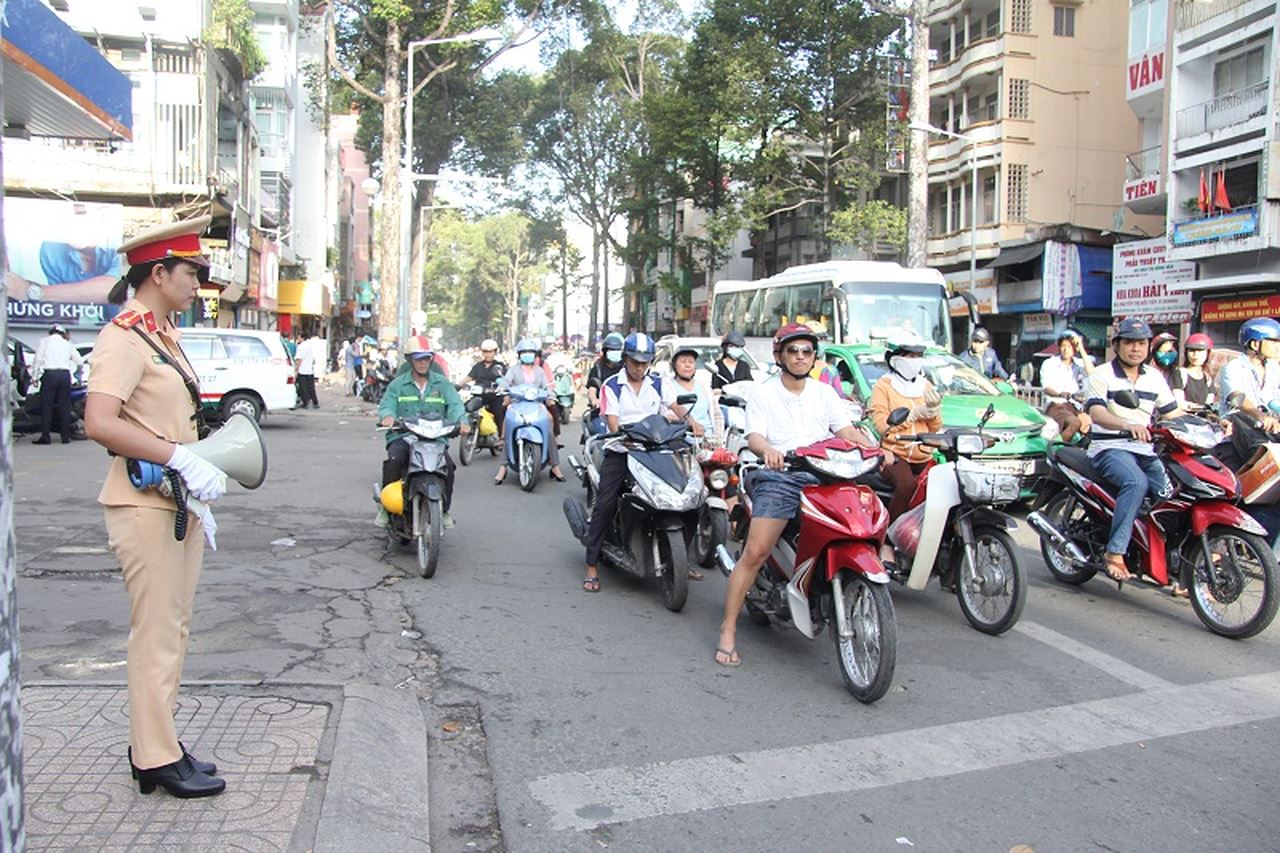police: (75, 206, 265, 815)
